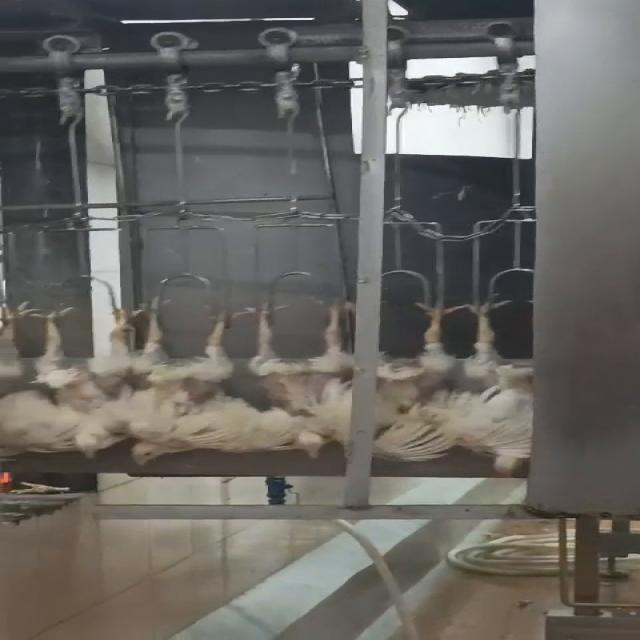chicken: (121, 298, 243, 468), (247, 298, 363, 456), (34, 301, 146, 460), (455, 291, 544, 473), (375, 299, 453, 466), (0, 299, 45, 459)
